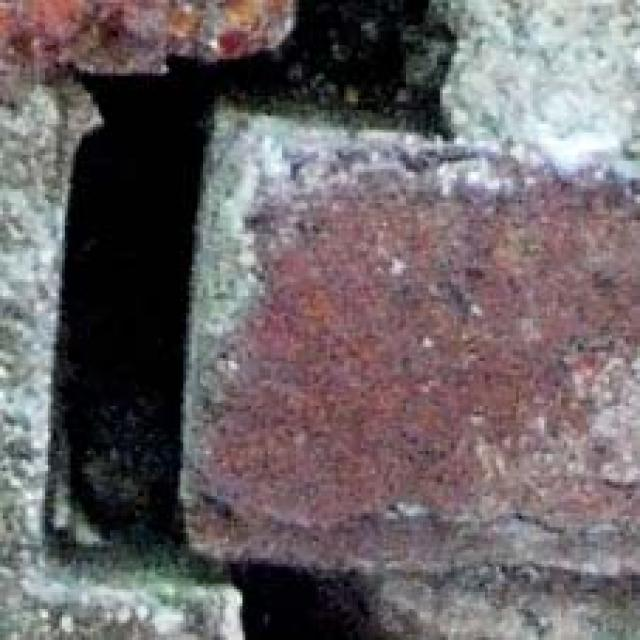Crack: (29, 8, 460, 640)
